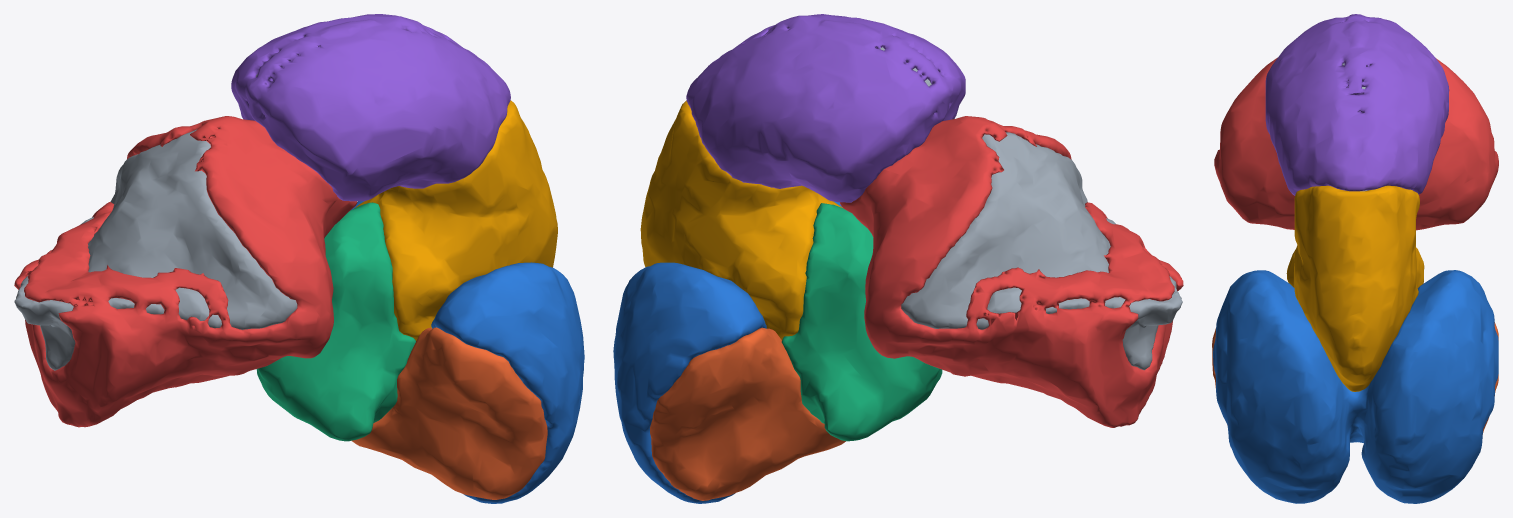
The picture shows the model from 3 angles, left to right: view 1: azimuth 30°, elevation 25°; view 2: azimuth 150°, elevation 25°; view 3: azimuth 270°, elevation 25°; orthographic projection. The views are drawn at different scales.
Visible parts, largest first — view 1: hindbrain, midbrain, ventricles, diencephalon, subpallium, hypothalamus, pallium; view 2: hindbrain, midbrain, ventricles, diencephalon, subpallium, hypothalamus, pallium; view 3: pallium, midbrain, diencephalon, hindbrain.
Boxes of the visible parts, x1,y1,x2,y2 form: hindbrain: (14,116,357,427); midbrain: (231,14,510,201); ventricles: (14,74,297,370); diencephalon: (354,100,557,340); subpallium: (351,327,547,499); hypothalamus: (256,202,415,441); pallium: (351,201,584,503); hindbrain: (840,116,1183,427); midbrain: (686,14,965,202); ventricles: (880,47,1182,370); diencephalon: (640,100,842,340); subpallium: (650,327,845,500); hypothalamus: (781,203,942,441); pallium: (613,201,842,503); pallium: (1213,270,1498,503); midbrain: (1265,14,1449,195); diencephalon: (1286,185,1424,391); hindbrain: (1214,57,1498,230).
Size of the model in its own units: 4148 by 3532 by 2184.
